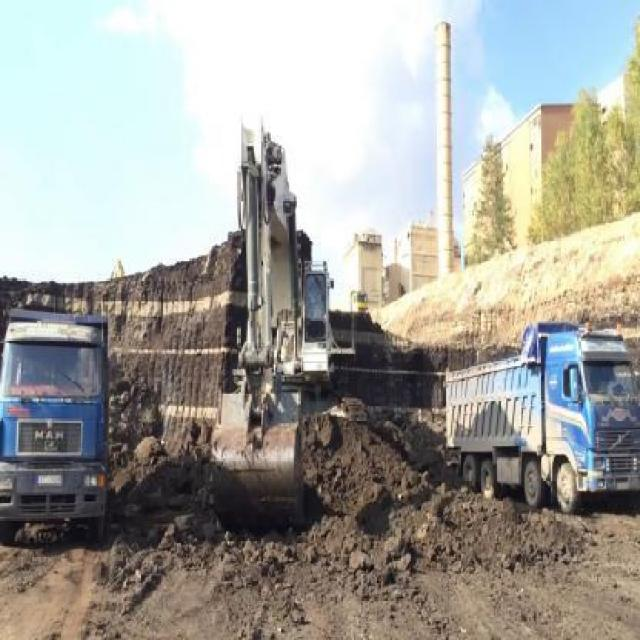Dump Truck: (442, 317, 640, 514), (0, 307, 115, 530)
Excavator: (212, 117, 339, 514)
